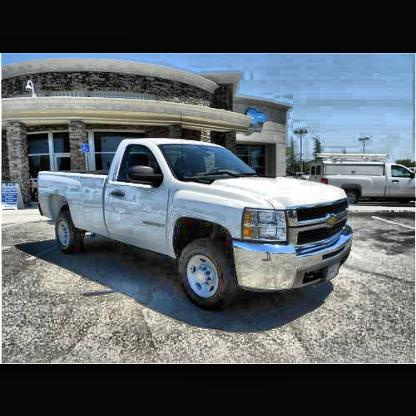Chevrolet Silverado 2500HD Regular Cab 2012: (38, 138, 355, 311)
